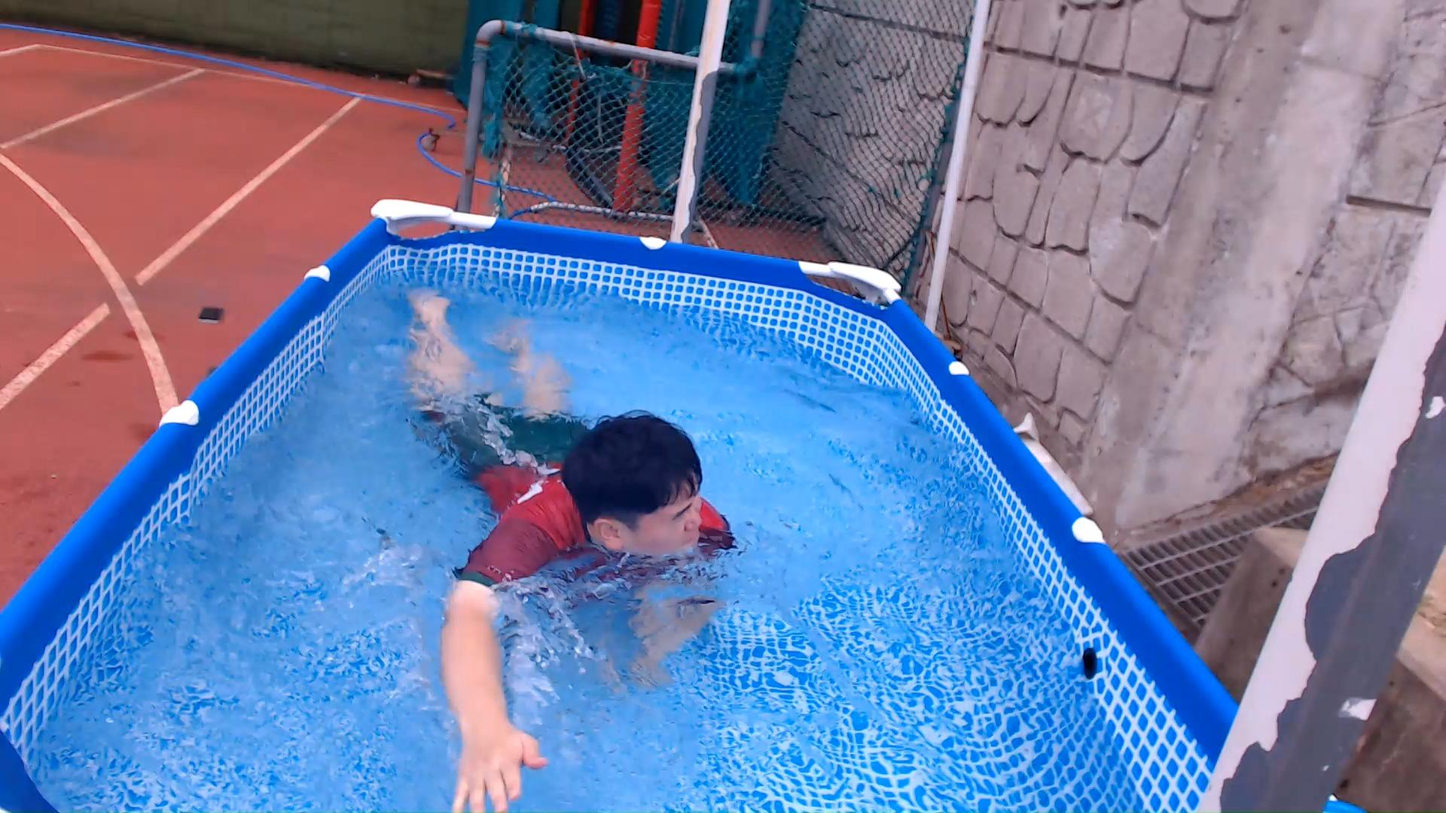Swimming: (348, 232, 792, 813)
